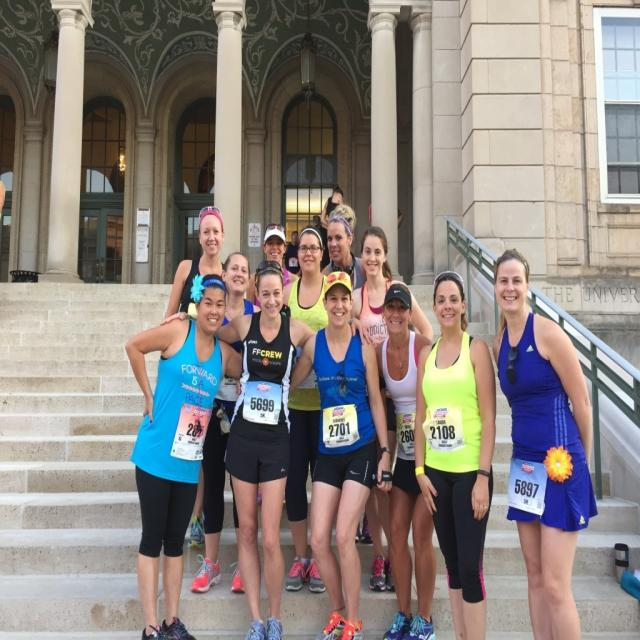body: (235, 269, 394, 640), (488, 247, 602, 639), (123, 270, 243, 640), (216, 258, 316, 640), (346, 224, 437, 596), (412, 266, 499, 639), (280, 224, 358, 598), (160, 205, 231, 556), (190, 250, 262, 595), (372, 280, 437, 640), (321, 203, 373, 544), (244, 222, 302, 309), (320, 182, 344, 230), (312, 214, 331, 271), (284, 230, 302, 276)
